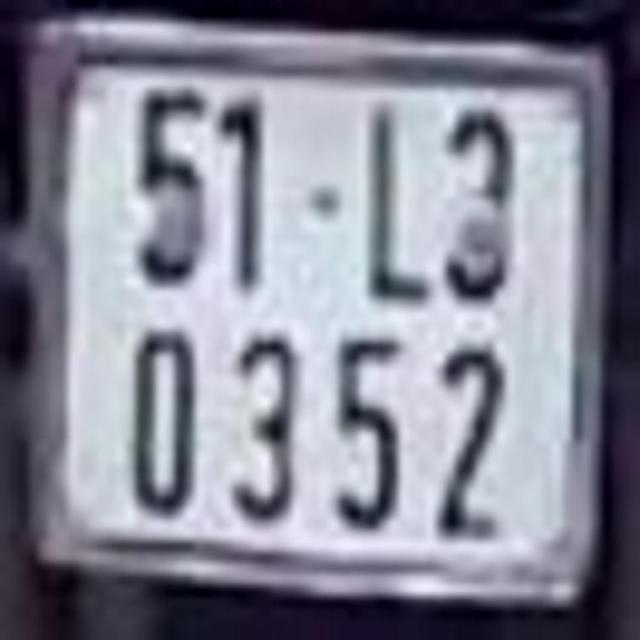0: (130, 328, 193, 514)
1: (223, 92, 266, 290)
2: (438, 350, 501, 540)
3: (446, 115, 509, 296), (238, 339, 293, 519)
5: (137, 87, 203, 280), (336, 338, 398, 528)
L: (367, 108, 429, 302)
